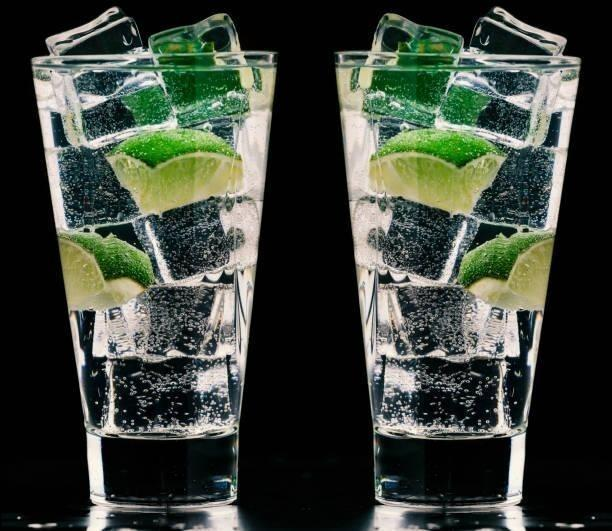glass-normal: (28, 43, 283, 517), (330, 42, 584, 516)
